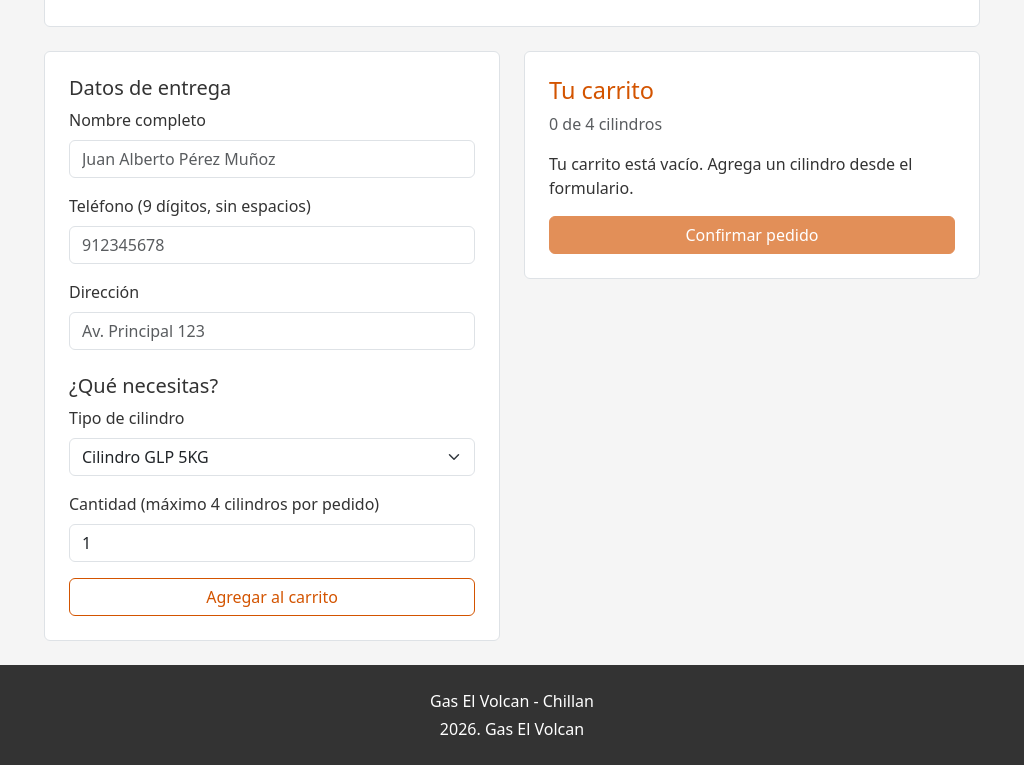
Scenario: Carrito de visitante › conserva cantidades al recargar y exige sesión solo al confirmar
This screenshot has width=1024, height=765.
Later steps or results of the test are not shown.
(page scrolled)
What coordinates should you click on to do the following:
click the button "Agregar al carrito"
I would click on:
 (272, 596)
Its box is [69, 578, 475, 616].
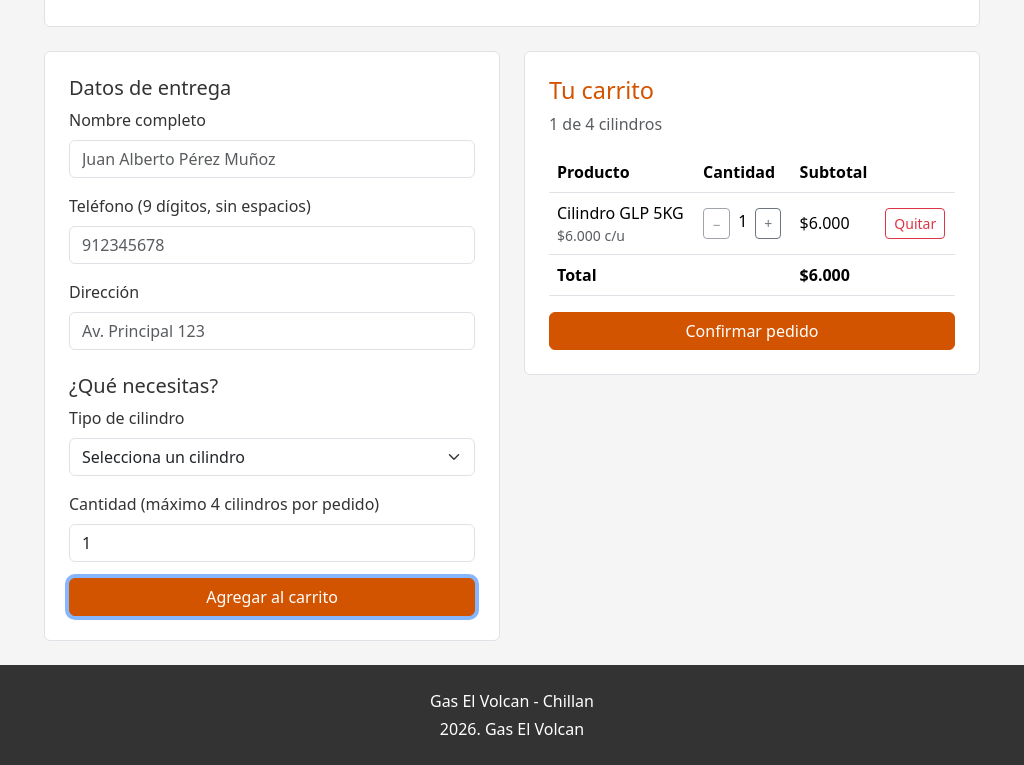
What coordinates should you click on to do the following:
click the button named "Agregar una unidad de Cilindro GLP 5KG"
I would click on:
 (768, 223)
Its box is [755, 208, 781, 239].
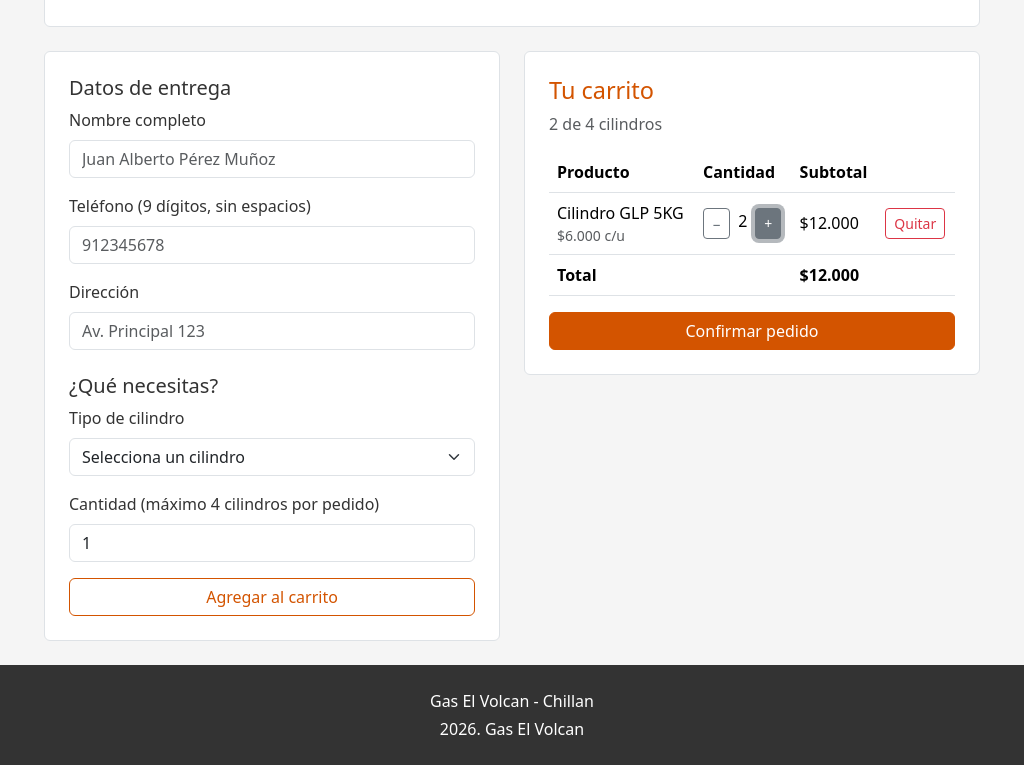
Expected: the text "2 de 4 cilindros" is shown, [549, 113, 662, 135]
